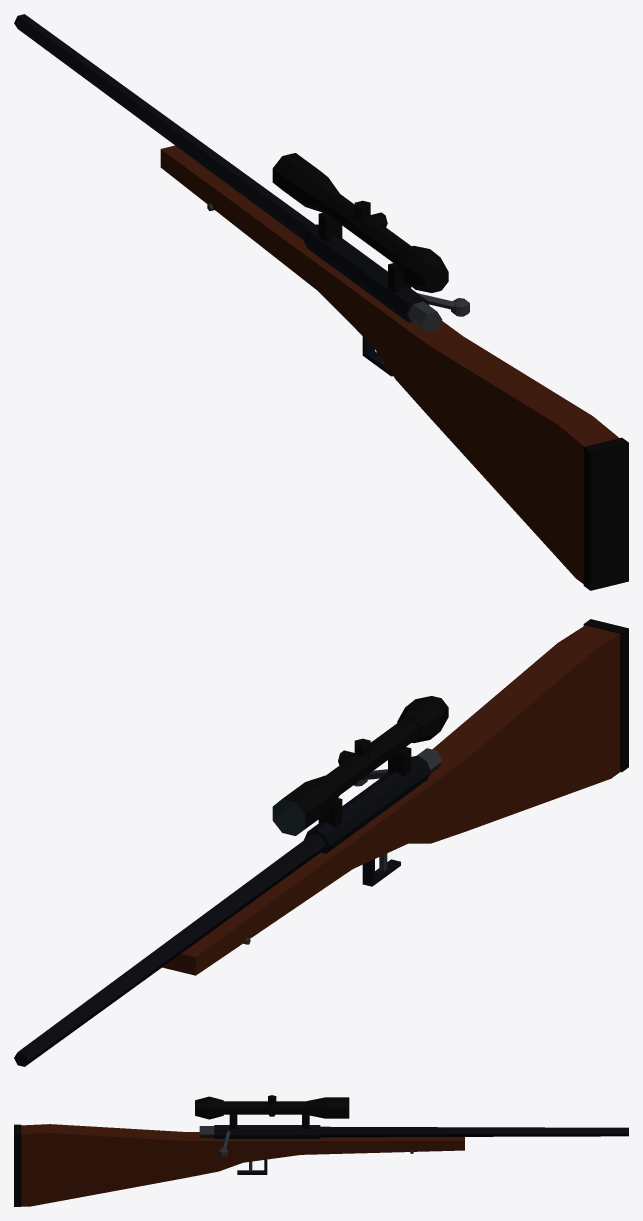
Rendered from NPC_Veteran_Held.glb.
The picture shows the model from 3 angles, top to bottom: view 1: azimuth 30°, elevation 25°; view 2: azimuth 150°, elevation 25°; view 3: azimuth 270°, elevation 25°; orthographic projection. The views are drawn at different scales.
Parts seen in each view (by area): view 1: CHR_Veteran_Rifle; view 2: CHR_Veteran_Rifle; view 3: CHR_Veteran_Rifle.
Part boxes in pixels (left/top/right/bottom): CHR_Veteran_Rifle: left=14, top=14, right=628, bottom=590; CHR_Veteran_Rifle: left=14, top=619, right=628, bottom=1066; CHR_Veteran_Rifle: left=14, top=1095, right=628, bottom=1206.
Bounding box in the file's own units: 0.098 × 0.24 × 1.28.
Materials: 2 (2 with a texture image).
